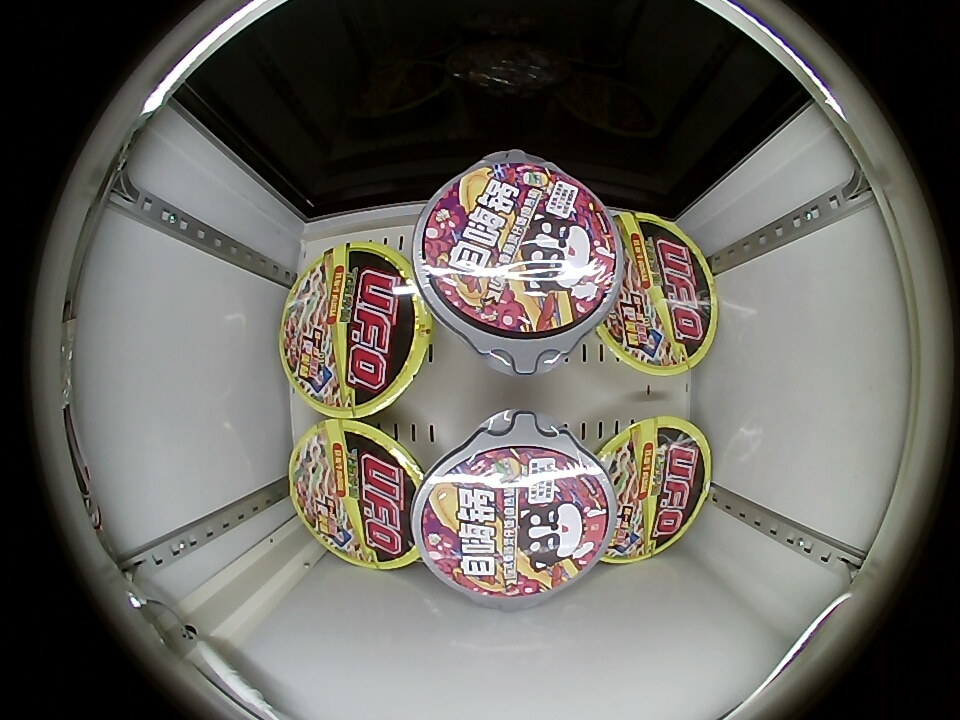ufo: (280, 242, 429, 417), (286, 417, 431, 576), (602, 210, 718, 376), (605, 416, 712, 563)
zihaiguo: (422, 162, 616, 337), (420, 444, 610, 597)
